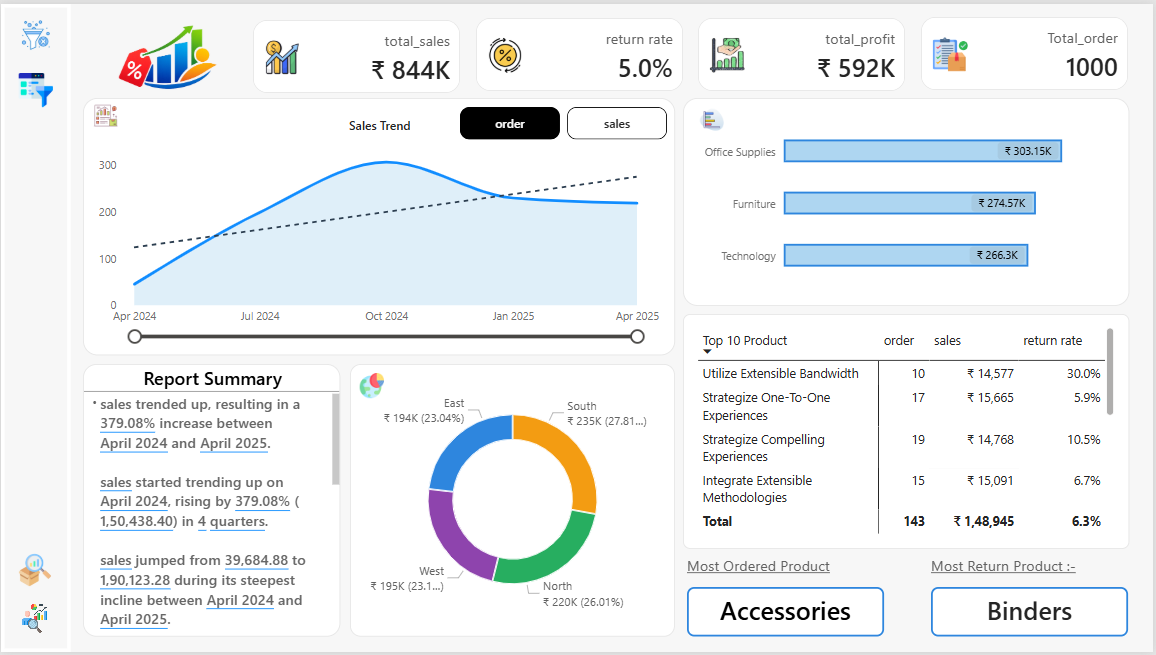

What the dashboard file says about the page in this screenshot:
{"tool":"powerbi","page":{"name":"OVERVIEW","canvas":[1280,720],"ordinal":0},"visuals":[{"type":"cardVisual","fields":{"Data":["_meeasures.total_sales"]},"box":[280,17.8,230,81.1],"z":0},{"type":"cardVisual","fields":{"Data":["_meeasures.total_profit"]},"box":[774.8,15,230,81.2],"z":1000},{"type":"cardVisual","fields":{"Data":["_meeasures.return rate"]},"box":[527.4,15,230,81.2],"z":2000},{"type":"cardVisual","fields":{"Data":["_meeasures.total_order"]},"box":[1022.2,14.4,230,81.1],"z":3000},{"type":"areaChart","title":"Sales Trend","fields":{"Category":["Date_Dim.Date.Variation.Date Hierarchy.Year","Date_Dim.Date.Variation.Date Hierarchy.Quarter","Date_Dim.Date.Variation.Date Hierarchy.Month","Date_Dim.Date.Variation.Date Hierarchy.Day"],"Y":["_meeasures.total_sales"]},"box":[91.2,104.8,657.5,286.2],"z":4000},{"type":"shape","box":[0,0,77.5,720],"z":5000},{"type":"image","box":[91.1,18.9,187.8,78.9],"z":6000},{"type":"clusteredBarChart","fields":{"Category":["Product_Dim.Category"],"Y":["_meeasures.total_sales"]},"box":[757.5,104.8,496.2,231.2],"z":7000},{"type":"pivotTable","fields":{"Rows":["Product_Dim.ProductName"],"Values":["_meeasures.total_order","_meeasures.total_sales","_meeasures.return rate"]},"box":[757.5,344.8,496.2,261.2],"z":8000},{"type":"advancedSlicerVisual","fields":{"Values":["sales and order.sales and order"]},"box":[510,114.4,230,36.7],"z":9000},{"type":"card","fields":{"Values":["Min(Product_Dim.SubCategory)"]},"box":[762.5,647.3,218.8,55],"z":10000},{"type":"card","fields":{"Values":["Min(Product_Dim.SubCategory)"]},"box":[1033.8,647.3,218.8,55],"z":11000},{"type":"textbox","box":[762.5,613.5,177.5,27.5],"z":12000},{"type":"textbox","box":[1033.8,613.5,177.5,27.5],"z":13000},{"type":"image","box":[100,109.8,32.5,27.5],"z":14000},{"type":"image","box":[773.8,114.8,32.5,27.5],"z":15000},{"type":"donutChart","fields":{"Category":["Region_Dim.RegionName"],"Y":["_meeasures.total_sales"]},"box":[387.5,399.8,361.2,302.5],"z":16000},{"type":"textbox","title":"Report Summary","box":[91.2,399.8,286.2,302.5],"z":17000},{"type":"image","box":[395,409.8,32.5,27.5],"z":18000},{"type":"image","title":"filter","box":[16.2,15,44,38],"z":19000},{"type":"image","title":"filter","box":[16.2,76.2,44,38],"z":21000},{"type":"image","title":"filter","box":[15.7,610.4,44,38],"z":22000},{"type":"image","title":"filter","box":[15.7,661,44.3,38.6],"z":23000}]}

Visuals, with their boxes on the page's 1280x720 design canvas (x1, y1, x2, y2). These are canvas units, not pixel positions in the 1156x655 screenshot, which may show the page scaled, cropped or inside an application window:
cardVisual - _meeasures.total_sales: BBox(280, 18, 510, 99)
cardVisual - _meeasures.total_profit: BBox(775, 15, 1005, 96)
cardVisual - _meeasures.return rate: BBox(527, 15, 757, 96)
cardVisual - _meeasures.total_order: BBox(1022, 14, 1252, 96)
"Sales Trend" areaChart: BBox(91, 105, 749, 391)
shape: BBox(0, 0, 78, 720)
image: BBox(91, 19, 279, 98)
clusteredBarChart - Product_Dim.Category x _meeasures.total_sales: BBox(758, 105, 1254, 336)
pivotTable - Product_Dim.ProductName x _meeasures.total_order: BBox(758, 345, 1254, 606)
advancedSlicerVisual - sales and order.sales and order: BBox(510, 114, 740, 151)
card - Min(Product_Dim.SubCategory): BBox(762, 647, 981, 702)
card - Min(Product_Dim.SubCategory): BBox(1034, 647, 1253, 702)
textbox: BBox(762, 614, 940, 641)
textbox: BBox(1034, 614, 1211, 641)
image: BBox(100, 110, 132, 137)
image: BBox(774, 115, 806, 142)
donutChart - Region_Dim.RegionName x _meeasures.total_sales: BBox(388, 400, 749, 702)
"Report Summary" textbox: BBox(91, 400, 377, 702)
image: BBox(395, 410, 428, 437)
"filter" image: BBox(16, 15, 60, 53)
"filter" image: BBox(16, 76, 60, 114)
"filter" image: BBox(16, 610, 60, 648)
"filter" image: BBox(16, 661, 60, 700)
